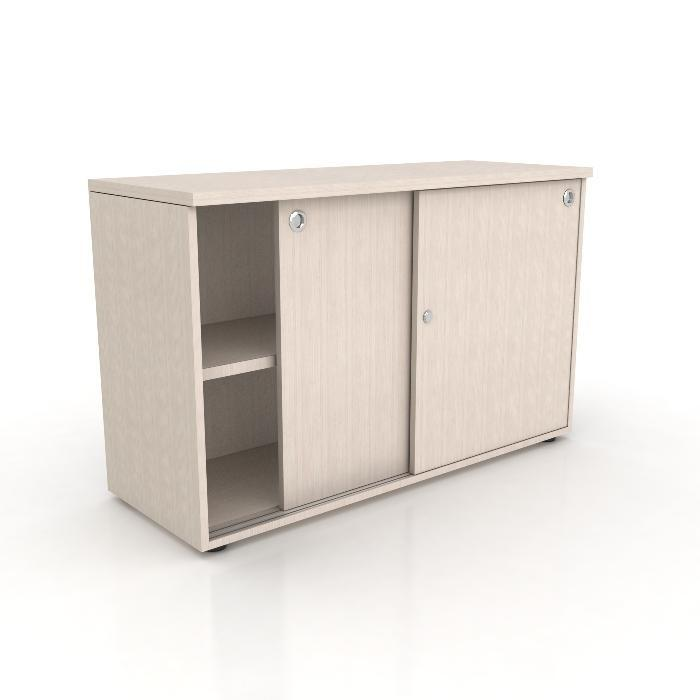cabinet_door: (414, 189, 576, 448), (280, 198, 410, 488)
handle: (419, 307, 436, 329)
